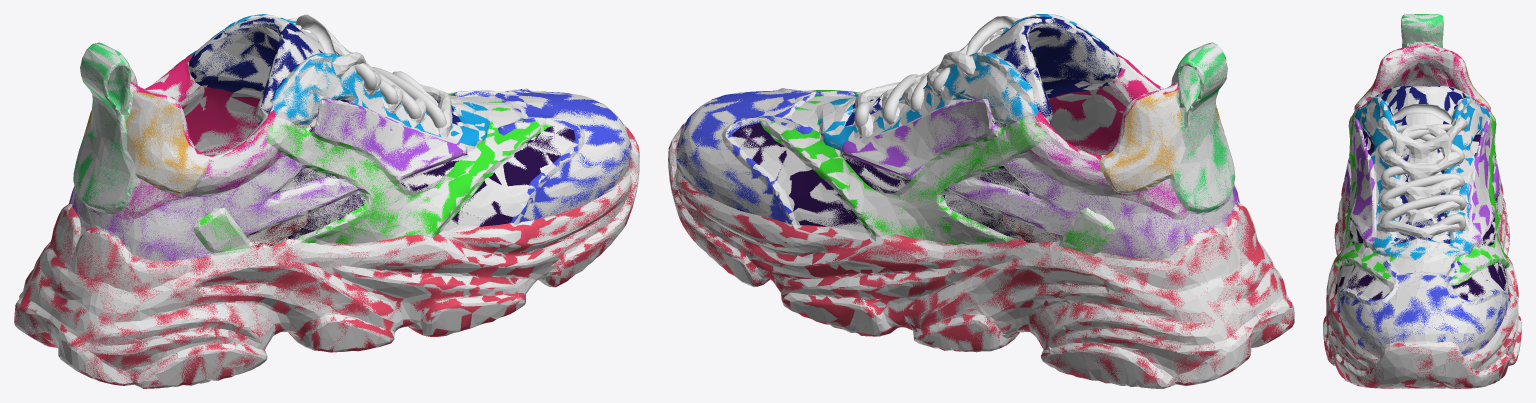
Rendered from sheos_material_new.glb.
3 renders of one model, left to right at view 1: azimuth 30°, elevation 25°; view 2: azimuth 150°, elevation 25°; view 3: azimuth 270°, elevation 25°, orthographic. The views are drawn at different scales.
Parts seen in each view (by area): view 1: All, sohle, seiten, seiten-hinter, vorne, innen, schuhzuenge, unten, vorne-oben, hinter-oben, hinter, schnuehsenkel (+2 smaller); view 2: All, sohle, seiten-hinter, seiten, vorne, schuhzuenge, unten, hinter-oben, vorne-oben, innen, hinter, schnuehsenkel (+1 smaller); view 3: All, sohle, vorne, schnuehsenkel, vorne-oben, seiten-hinter, seiten, innen, unten, schuhzuenge, hinter-oben.
Boxes of the visible parts, bbox=[...] form: All: bbox=[14, 14, 639, 388]; sohle: bbox=[14, 127, 639, 388]; seiten: bbox=[193, 92, 551, 253]; seiten-hinter: bbox=[69, 99, 466, 260]; vorne: bbox=[452, 89, 630, 222]; innen: bbox=[130, 55, 275, 160]; schuhzuenge: bbox=[189, 17, 463, 126]; unten: bbox=[277, 99, 575, 239]; vorne-oben: bbox=[189, 14, 489, 146]; hinter-oben: bbox=[73, 42, 137, 213]; hinter: bbox=[84, 92, 208, 193]; schnuehsenkel: bbox=[295, 14, 446, 127]; All: bbox=[668, 14, 1294, 388]; sohle: bbox=[668, 124, 1294, 385]; seiten-hinter: bbox=[841, 98, 1239, 259]; seiten: bbox=[760, 90, 1115, 254]; vorne: bbox=[676, 88, 856, 224]; schuhzuenge: bbox=[845, 16, 1120, 126]; unten: bbox=[732, 99, 1029, 240]; hinter-oben: bbox=[1171, 42, 1234, 213]; vorne-oben: bbox=[818, 14, 1115, 150]; innen: bbox=[1032, 52, 1178, 159]; hinter: bbox=[1099, 90, 1224, 194]; schnuehsenkel: bbox=[854, 16, 1015, 130]; All: bbox=[1323, 14, 1521, 388]; sohle: bbox=[1323, 184, 1521, 388]; vorne: bbox=[1337, 260, 1509, 355]; schnuehsenkel: bbox=[1377, 104, 1466, 234]; vorne-oben: bbox=[1355, 96, 1490, 261]; seiten-hinter: bbox=[1344, 119, 1499, 247]; seiten: bbox=[1334, 111, 1509, 285]; innen: bbox=[1356, 42, 1488, 111]; unten: bbox=[1335, 128, 1509, 299]; schuhzuenge: bbox=[1375, 86, 1466, 243]; hinter-oben: bbox=[1401, 14, 1443, 47].
Bounding box in the file's own units: 1.96 × 0.9948 × 0.7778.
